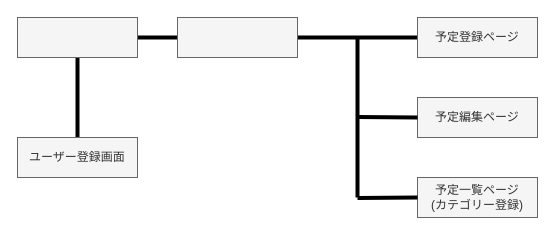
This 555x235 diagram has some shape labels left out. Here are the shapes that lost their labels. From the top down, the box of each, then its label:
(16, 16, 138, 58): ログイン画面
(176, 16, 298, 58): TOP画面
